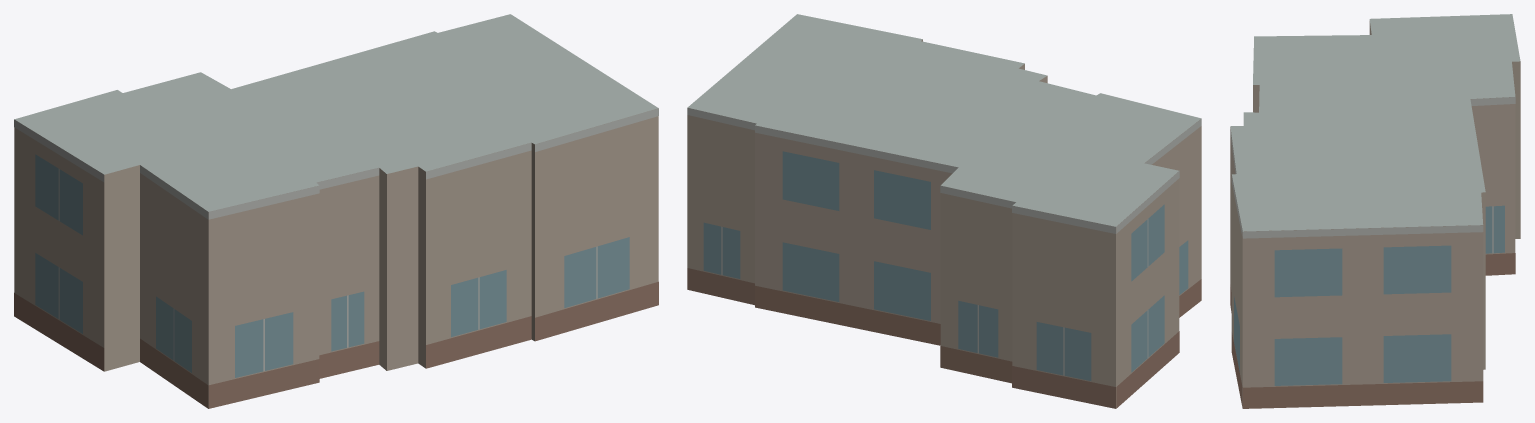
File: survey-upis-32666110.glb
3 renders of one model, left to right at view 1: azimuth 30°, elevation 25°; view 2: azimuth 150°, elevation 25°; view 3: azimuth 270°, elevation 25°, orthographic. The views are drawn at different scales.
Visible parts, largest first — view 1: survey-upis-32666110.tmp; view 2: survey-upis-32666110.tmp; view 3: survey-upis-32666110.tmp.
Part boxes in pixels (x1,y1,x2,y2): survey-upis-32666110.tmp: [14, 14, 658, 408]; survey-upis-32666110.tmp: [687, 14, 1201, 408]; survey-upis-32666110.tmp: [1230, 14, 1520, 408].
Bounding box in the file's own units: 16.05 × 6.1 × 9.06.
